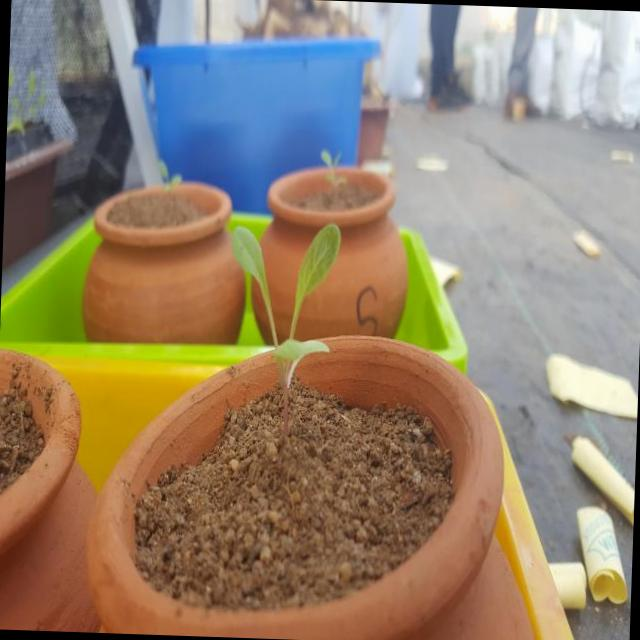Lettuce-Not-Ready-to-Harvest: (231, 223, 340, 437), (157, 160, 182, 198), (321, 148, 346, 186), (27, 71, 45, 123)
